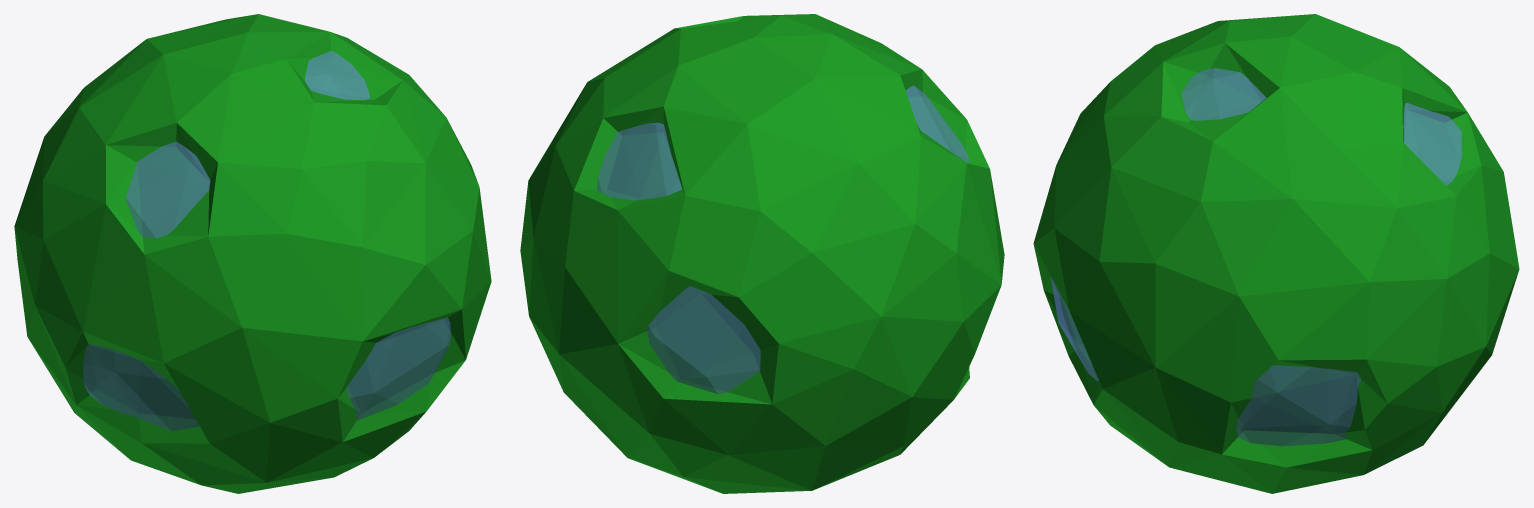
File: earth_like_planet9.fbx
The picture shows the model from 3 angles, left to right: view 1: azimuth 30°, elevation 25°; view 2: azimuth 150°, elevation 25°; view 3: azimuth 270°, elevation 25°; orthographic projection. The views are drawn at different scales.
Parts seen in each view (by area): view 1: earth_like_planet9; view 2: earth_like_planet9; view 3: earth_like_planet9.
Boxes of the visible parts, x1=… form: earth_like_planet9: x1=14, y1=14, x2=491, y2=493; earth_like_planet9: x1=520, y1=14, x2=1004, y2=493; earth_like_planet9: x1=1033, y1=14, x2=1519, y2=493.
Size of the model in its own units: 202 by 201 by 203.
